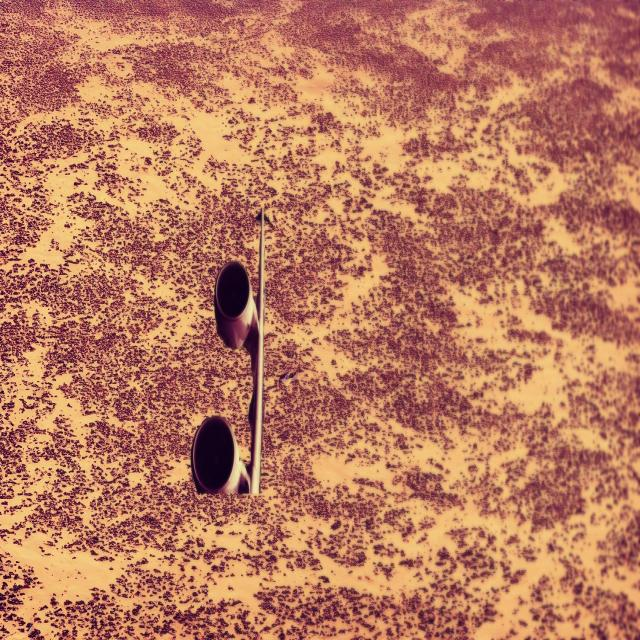airplane: (190, 206, 266, 496)
